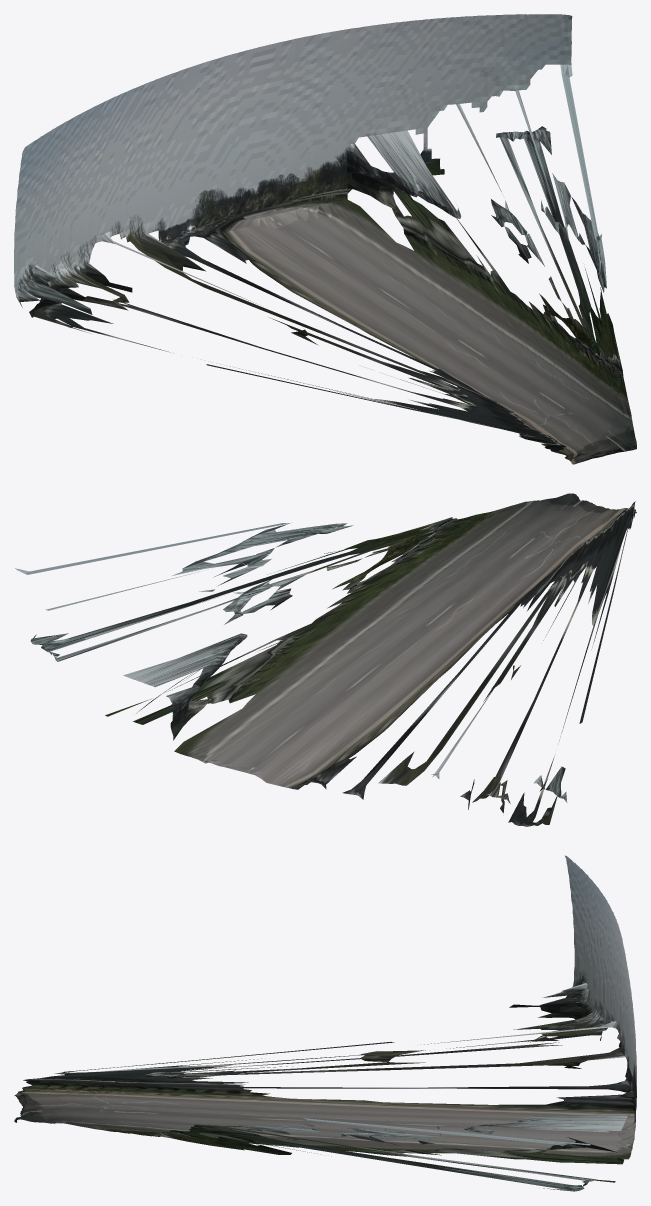
3 renders of one model, top to bottom at view 1: azimuth 30°, elevation 25°; view 2: azimuth 150°, elevation 25°; view 3: azimuth 270°, elevation 25°, orthographic. The views are drawn at different scales.
Parts seen in each view (by area): view 1: defaultobject; view 2: defaultobject; view 3: defaultobject.
Part boxes in pixels (x1,y1,x2,y2): defaultobject: [14, 14, 636, 464]; defaultobject: [15, 493, 636, 826]; defaultobject: [14, 855, 636, 1191].
Size of the model in its own units: 41.05 by 13.77 by 44.59.
1 material, 1 textured.
